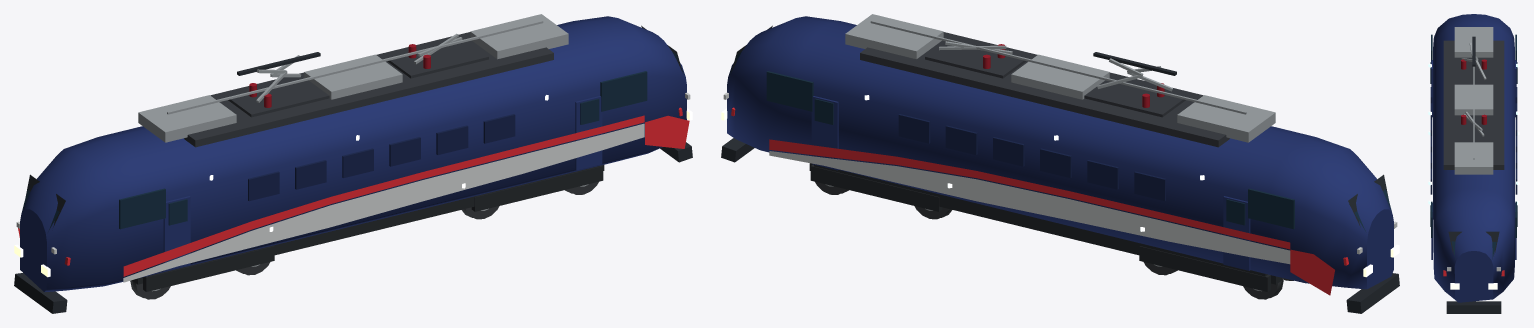
Rendered from nightjet-new-generation-taurus-1116.glb.
The picture shows the model from 3 angles, left to right: view 1: azimuth 30°, elevation 25°; view 2: azimuth 150°, elevation 25°; view 3: azimuth 270°, elevation 25°; orthographic projection. The views are drawn at different scales.
Parts seen in each view (by area): view 1: nightjet_taurus_lofted_body, nightjet_taurus_silver_sweep_-1, nightjet_taurus_roof_spine, nightjet_taurus_red_sweep_-1, nightjet_taurus_roof_cabinet_0, nightjet_taurus_roof_cabinet_2, nightjet_taurus_underframe, nightjet_taurus_roof_cabinet_1, nightjet_taurus_bogie_a_sideframe_-1, nightjet_taurus_bogie_b_sideframe_-1, nightjet_taurus_panto_raised_base, nightjet_taurus_panto_folded_base (+15 smaller); view 2: nightjet_taurus_lofted_body, nightjet_taurus_silver_sweep_1, nightjet_taurus_roof_spine, nightjet_taurus_red_sweep_1, nightjet_taurus_underframe, nightjet_taurus_roof_cabinet_0, nightjet_taurus_bogie_a, nightjet_taurus_roof_cabinet_2, nightjet_taurus_bogie_b, nightjet_taurus_roof_cabinet_1, nightjet_taurus_panto_raised_base, nightjet_taurus_panto_folded_base (+14 smaller); view 3: nightjet_taurus_lofted_body, nightjet_taurus_roof_spine, nightjet_taurus_roof_cabinet_2, nightjet_taurus_roof_cabinet_1, nightjet_taurus_roof_cabinet_0, nightjet_taurus_panto_folded_base, nightjet_taurus_cab_1_plough, nightjet_taurus_panto_raised_base, nightjet_taurus_cab_1_windshield_mask, nightjet_taurus_roof_bus, nightjet_taurus_panto_raised_collector, nightjet_taurus_cab_door_-1_-1 (+3 smaller).
Part boxes in pixels (x1,y1,x2,y2): nightjet_taurus_lofted_body: (20, 16, 686, 292); nightjet_taurus_silver_sweep_-1: (123, 123, 644, 282); nightjet_taurus_roof_spine: (184, 32, 553, 147); nightjet_taurus_red_sweep_-1: (123, 115, 644, 276); nightjet_taurus_roof_cabinet_0: (138, 95, 236, 142); nightjet_taurus_roof_cabinet_2: (470, 14, 568, 59); nightjet_taurus_underframe: (148, 166, 599, 276); nightjet_taurus_roof_cabinet_1: (304, 54, 402, 99); nightjet_taurus_bogie_a_sideframe_-1: (143, 246, 274, 291); nightjet_taurus_bogie_b_sideframe_-1: (471, 165, 603, 211); nightjet_taurus_panto_raised_base: (228, 80, 329, 117); nightjet_taurus_panto_folded_base: (387, 41, 488, 78); nightjet_taurus_lofted_body: (727, 16, 1393, 289); nightjet_taurus_silver_sweep_1: (769, 151, 1290, 264); nightjet_taurus_roof_spine: (860, 32, 1229, 147); nightjet_taurus_red_sweep_1: (769, 139, 1290, 249); nightjet_taurus_underframe: (814, 165, 1267, 276); nightjet_taurus_roof_cabinet_0: (1177, 95, 1275, 142); nightjet_taurus_bogie_a: (1139, 246, 1293, 299); nightjet_taurus_roof_cabinet_2: (845, 14, 943, 59); nightjet_taurus_bogie_b: (810, 164, 951, 219); nightjet_taurus_roof_cabinet_1: (1011, 54, 1109, 99); nightjet_taurus_panto_raised_base: (1084, 80, 1185, 117); nightjet_taurus_panto_folded_base: (925, 42, 1026, 78); nightjet_taurus_lofted_body: (1433, 14, 1514, 302); nightjet_taurus_roof_spine: (1443, 40, 1504, 169); nightjet_taurus_roof_cabinet_2: (1454, 142, 1493, 174); nightjet_taurus_roof_cabinet_1: (1454, 84, 1493, 115); nightjet_taurus_roof_cabinet_0: (1454, 27, 1493, 57); nightjet_taurus_panto_folded_base: (1457, 116, 1490, 142); nightjet_taurus_cab_1_plough: (1446, 301, 1501, 313); nightjet_taurus_panto_raised_base: (1457, 61, 1490, 84); nightjet_taurus_cab_1_windshield_mask: (1448, 231, 1499, 254); nightjet_taurus_roof_bus: (1473, 28, 1474, 159); nightjet_taurus_panto_raised_collector: (1472, 36, 1475, 66); nightjet_taurus_cab_door_-1_-1: (1431, 60, 1432, 117).
Size of the model in its own units: 19.43 by 5.54 by 3.34.
